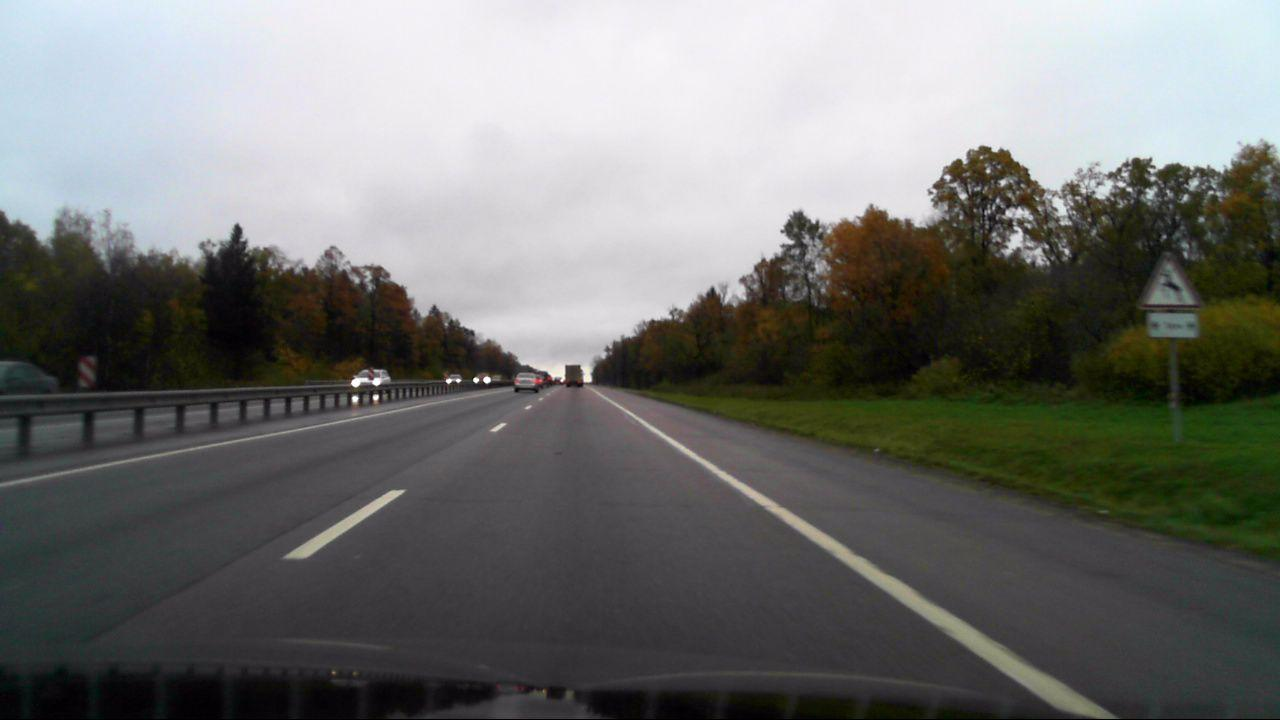1_27: (1136, 251, 1204, 313)
8_2_1: (1147, 312, 1203, 339)
